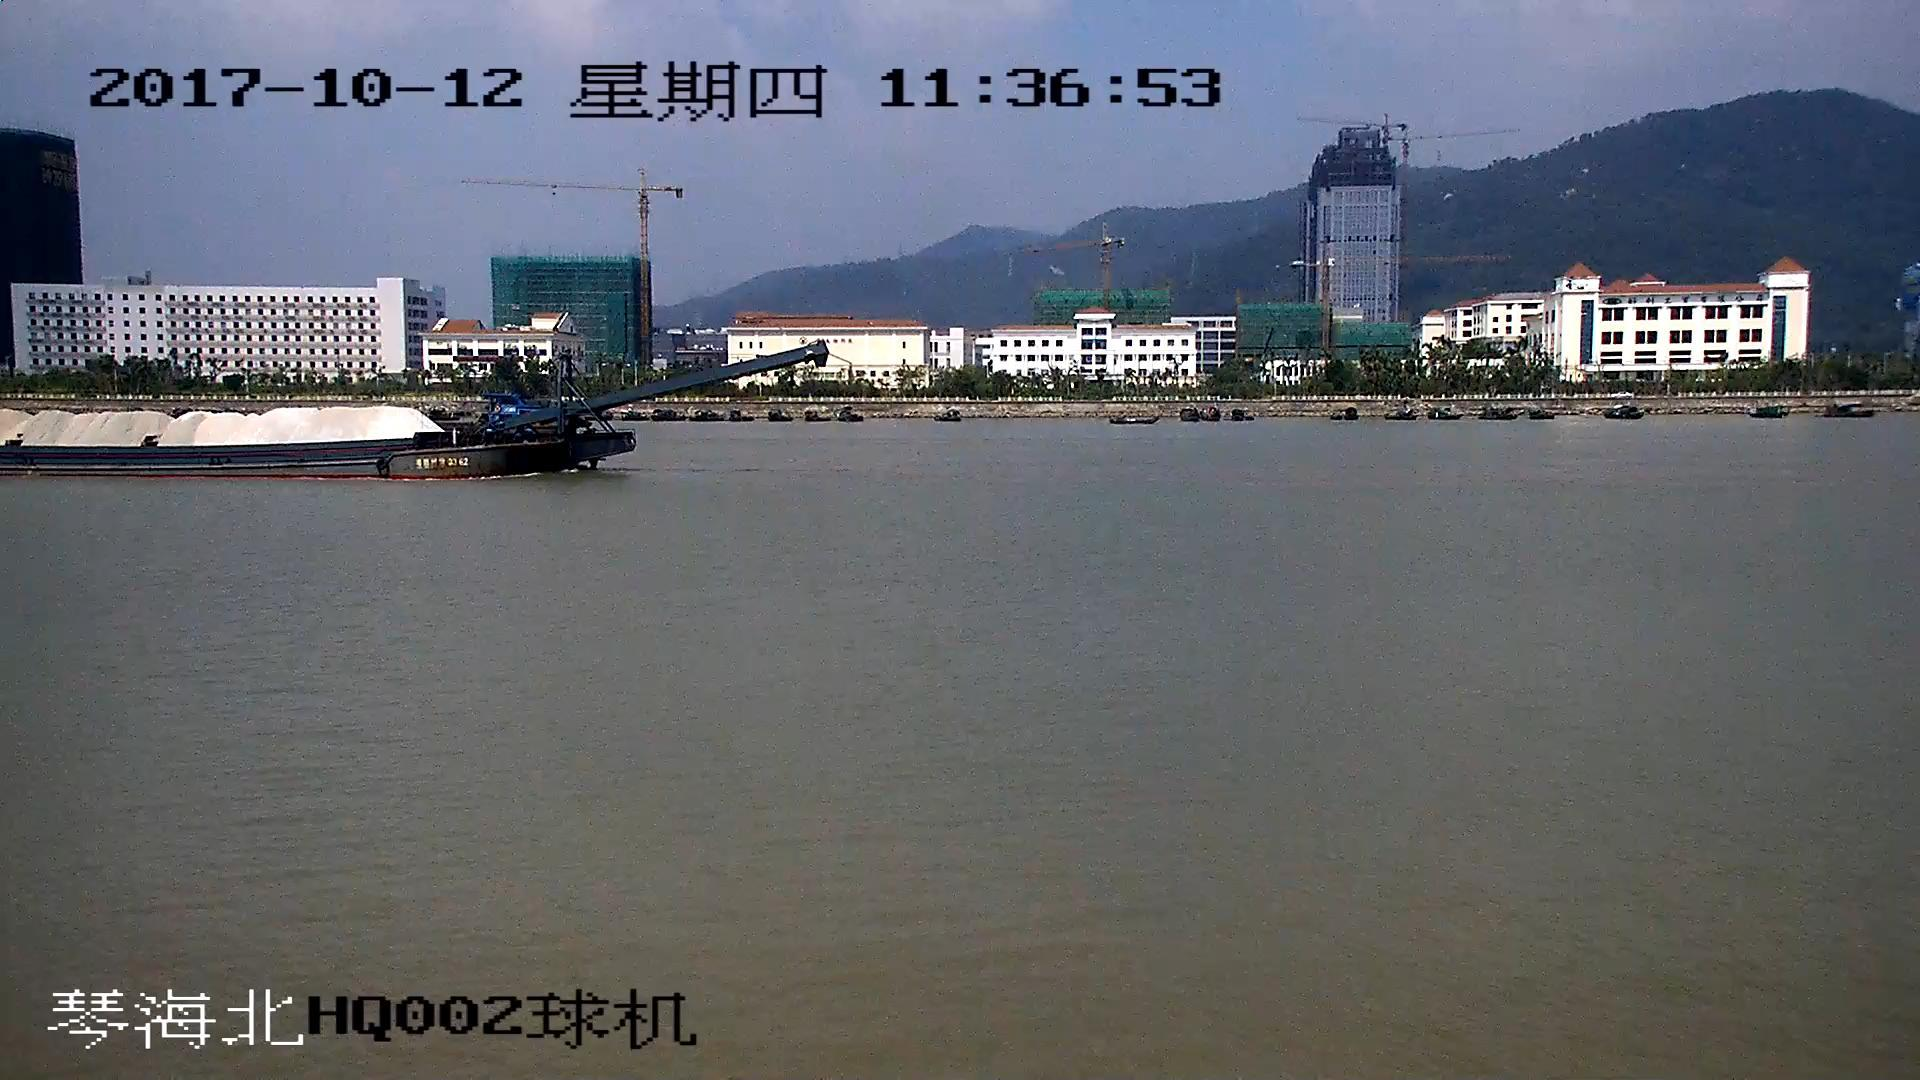Ship: (3, 349, 822, 479)
